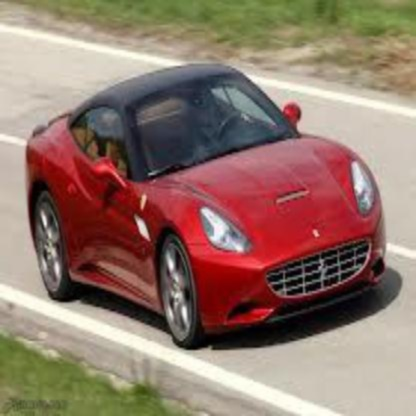Vehicle: (26, 61, 386, 350)
